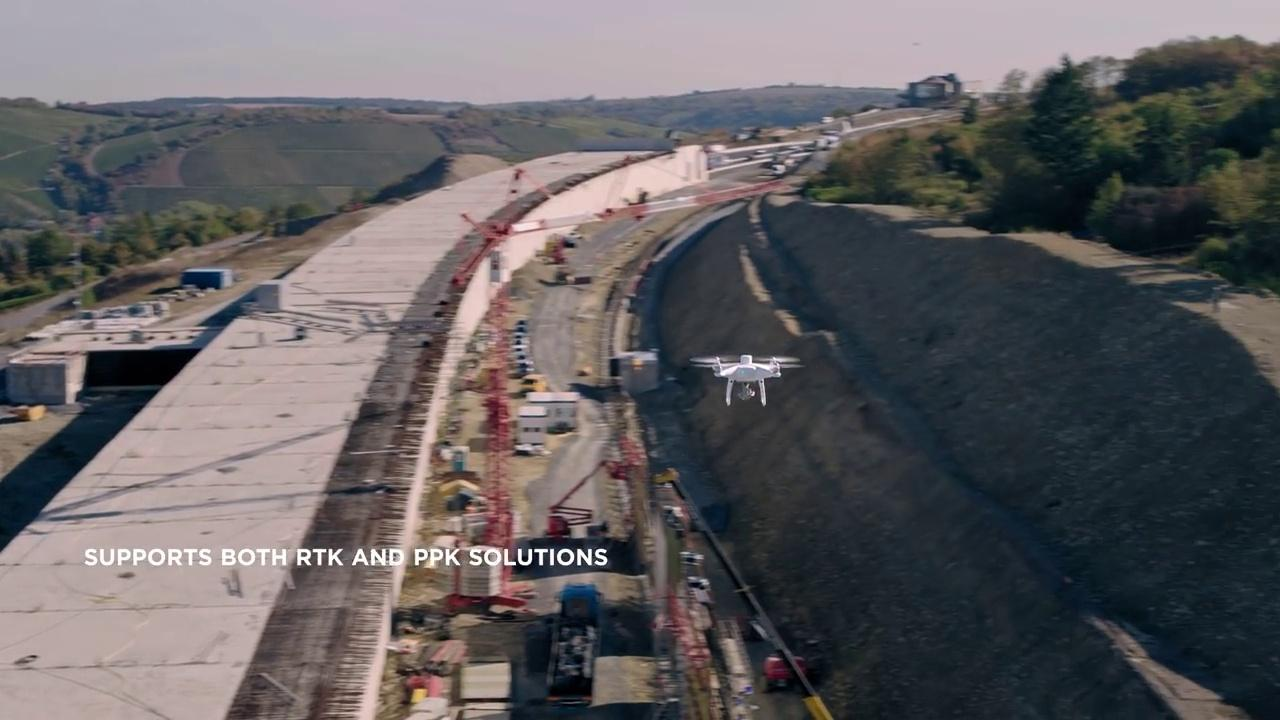drone: (687, 348, 805, 408)
